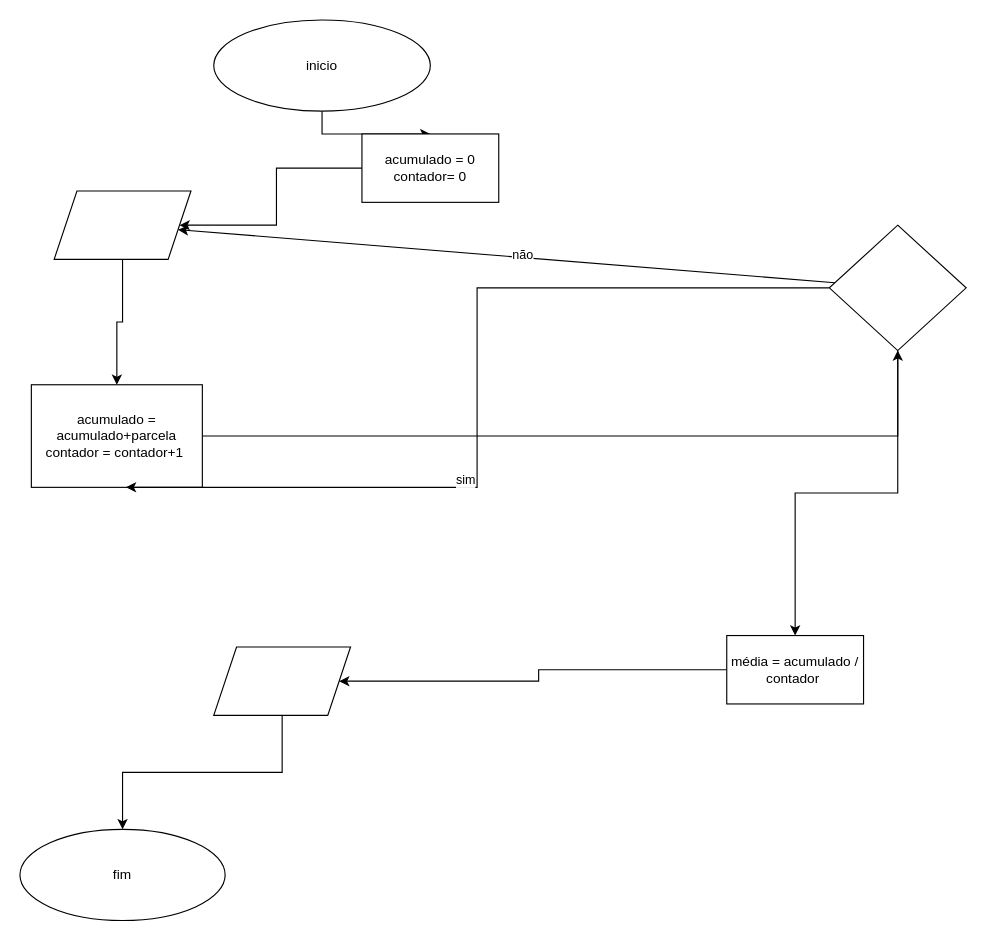
Image size: 986x941. Some labels were removed from this diagram. Here are the shapes that lost their labels. From the top down, the centre of each, then its label:
pixel 122 224: Ler parcela
pixel 897 287: acumulado>1000
pixel 282 680: mostrar os valores finais
